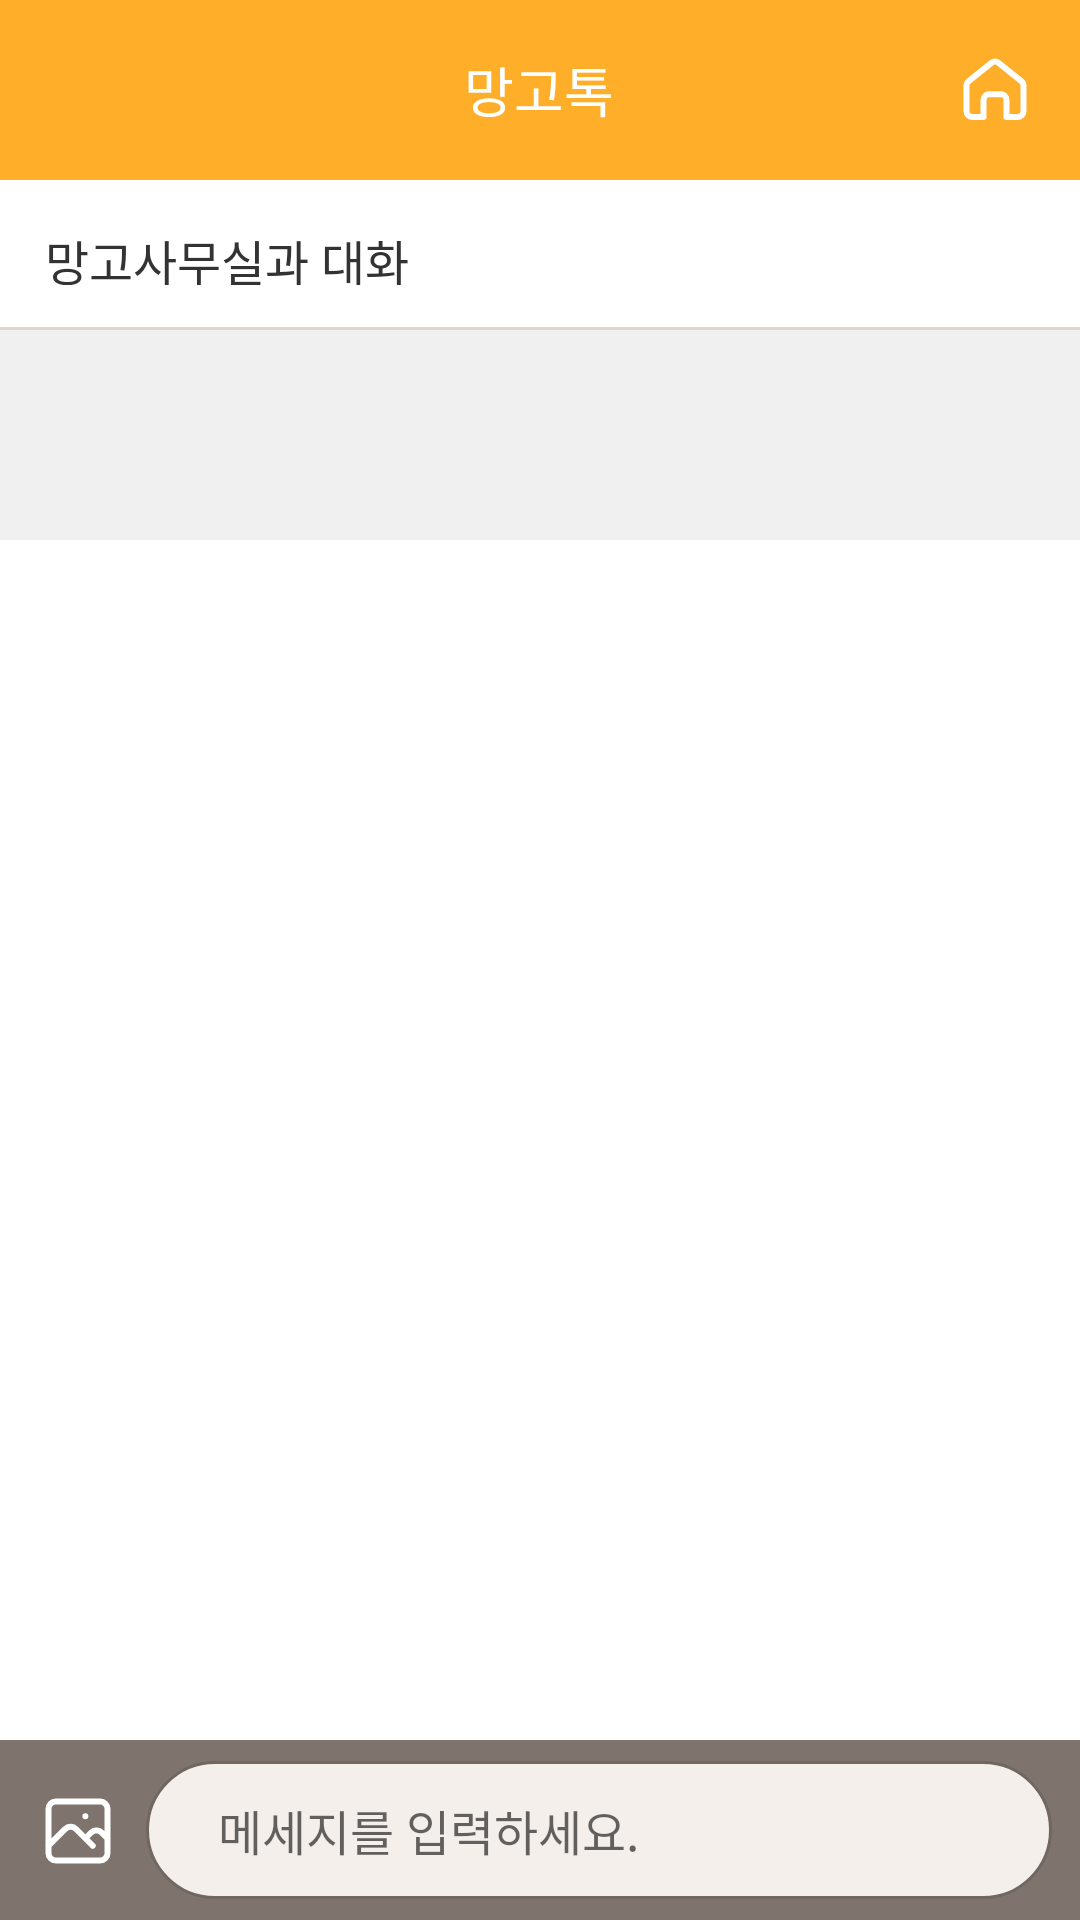

Point at icon controls on the screen. Image size 1080 x 1920, points as point (x, y).
btnhome: point (995, 89)
